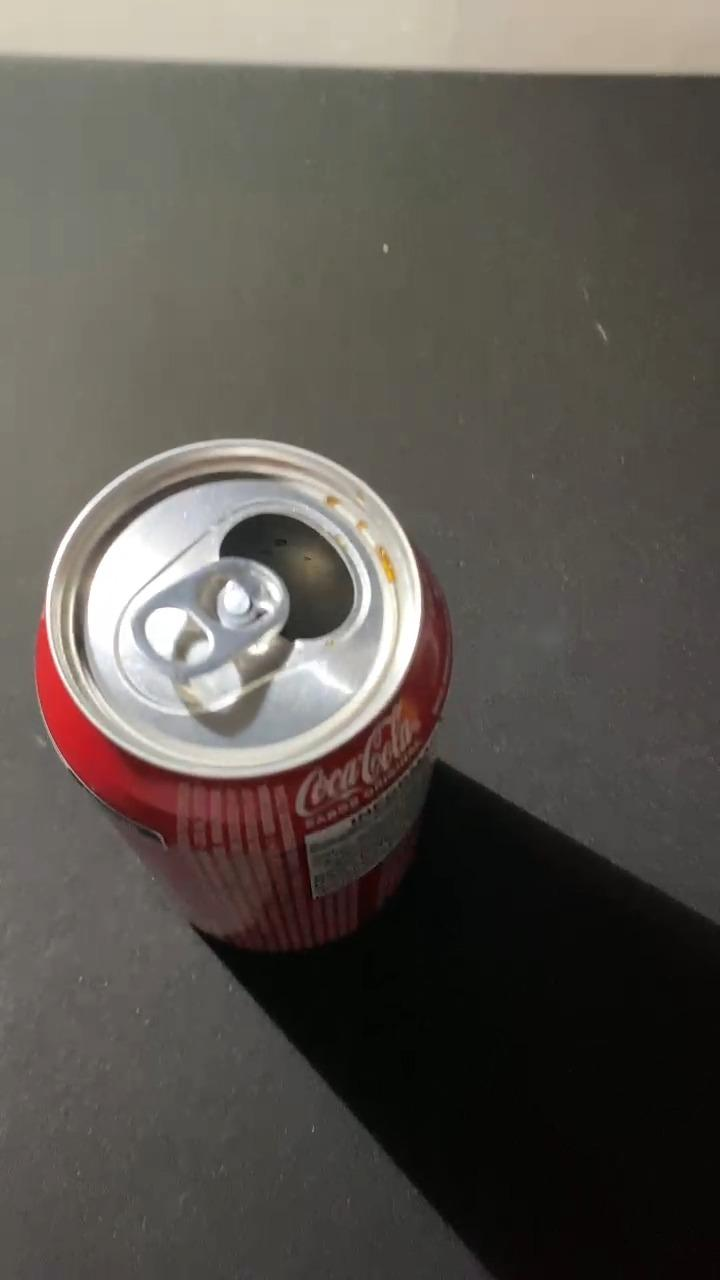coke: (34, 434, 459, 947)
